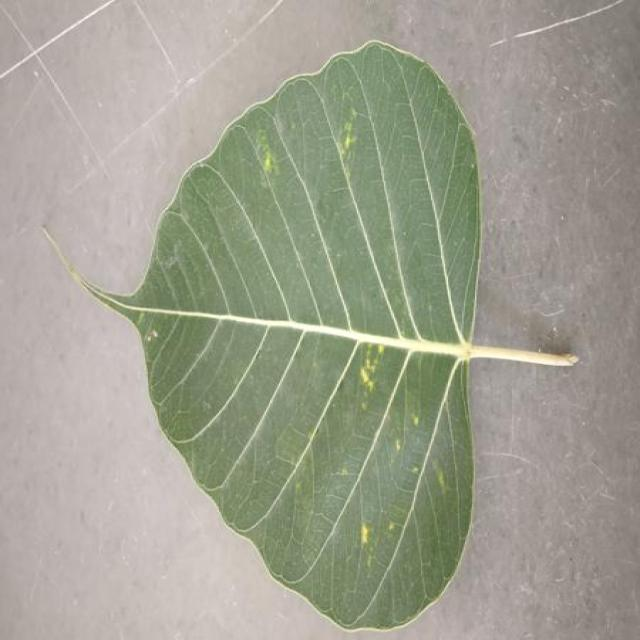arali: (70, 41, 578, 629)
